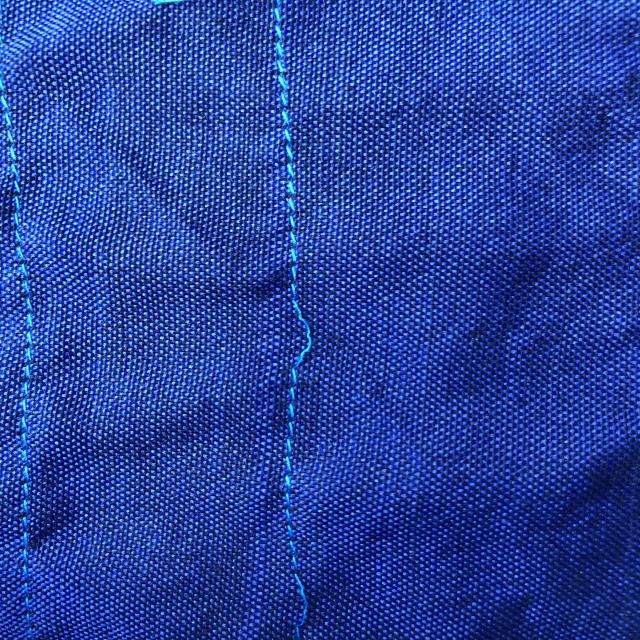skip: (247, 279, 340, 376)
